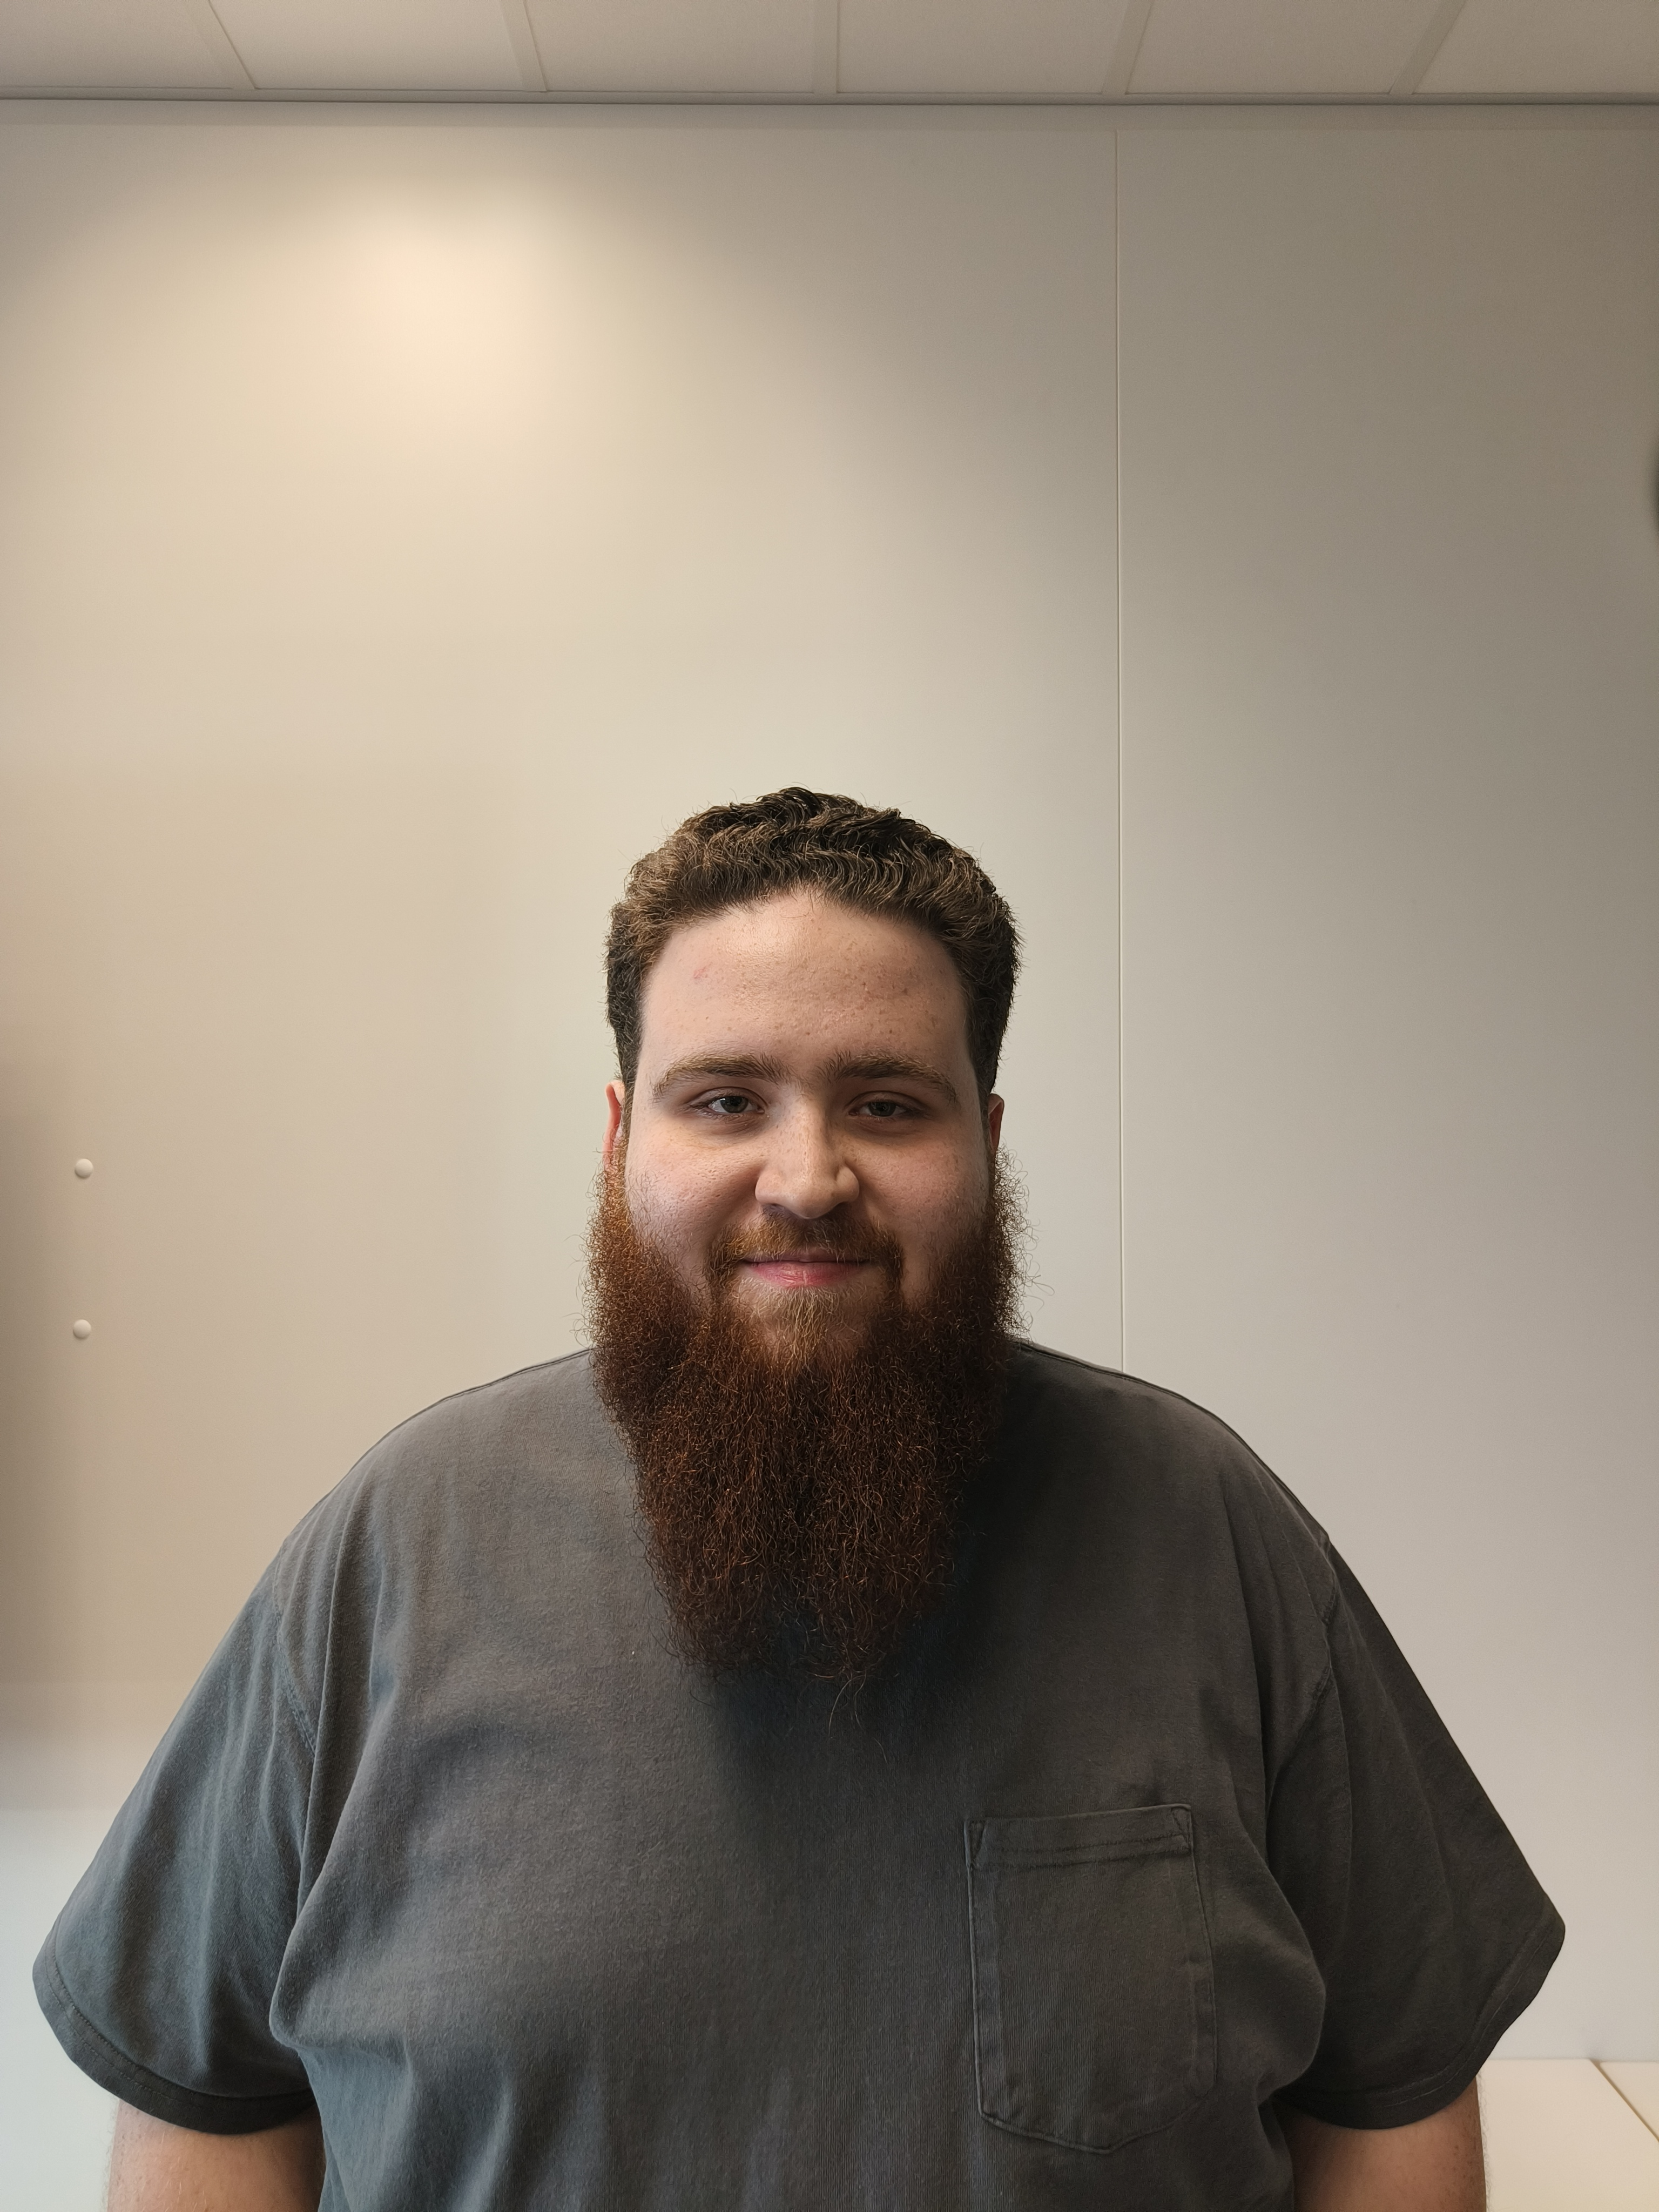face: (384, 815, 969, 1346)
